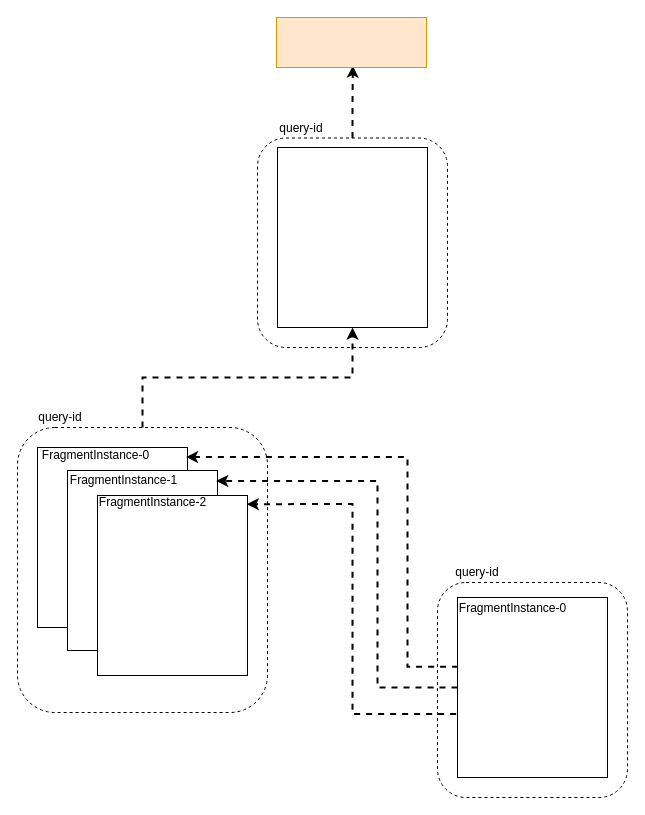
This 645x815 diagram has some shape labels left out. The shapes that lost their labels are listed below. From the top down, each one's centre as x and y in pixels, then its label:
(351,42): StarRocks-FE
(352,237): Result
